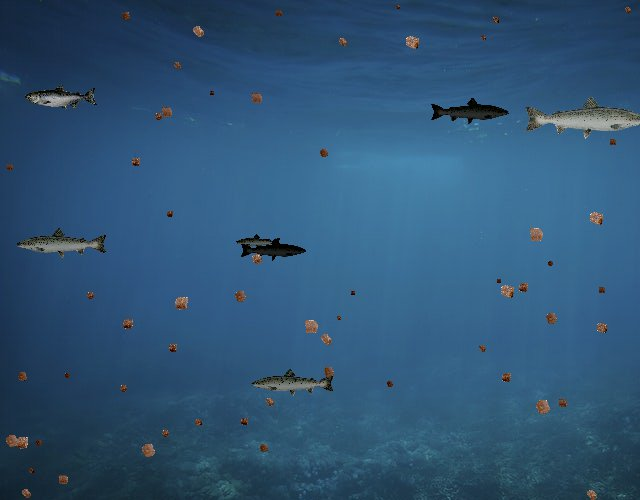Fish: (522, 94, 640, 140), (15, 227, 109, 261), (250, 367, 336, 398), (429, 96, 510, 125), (26, 84, 98, 111), (240, 237, 308, 262), (235, 233, 282, 250)
Pellet: (167, 290, 195, 318), (186, 19, 211, 44), (314, 328, 338, 352), (228, 284, 252, 308), (245, 247, 268, 270), (12, 366, 33, 387), (169, 57, 186, 74), (488, 13, 502, 27), (544, 257, 557, 270), (25, 465, 37, 477)
